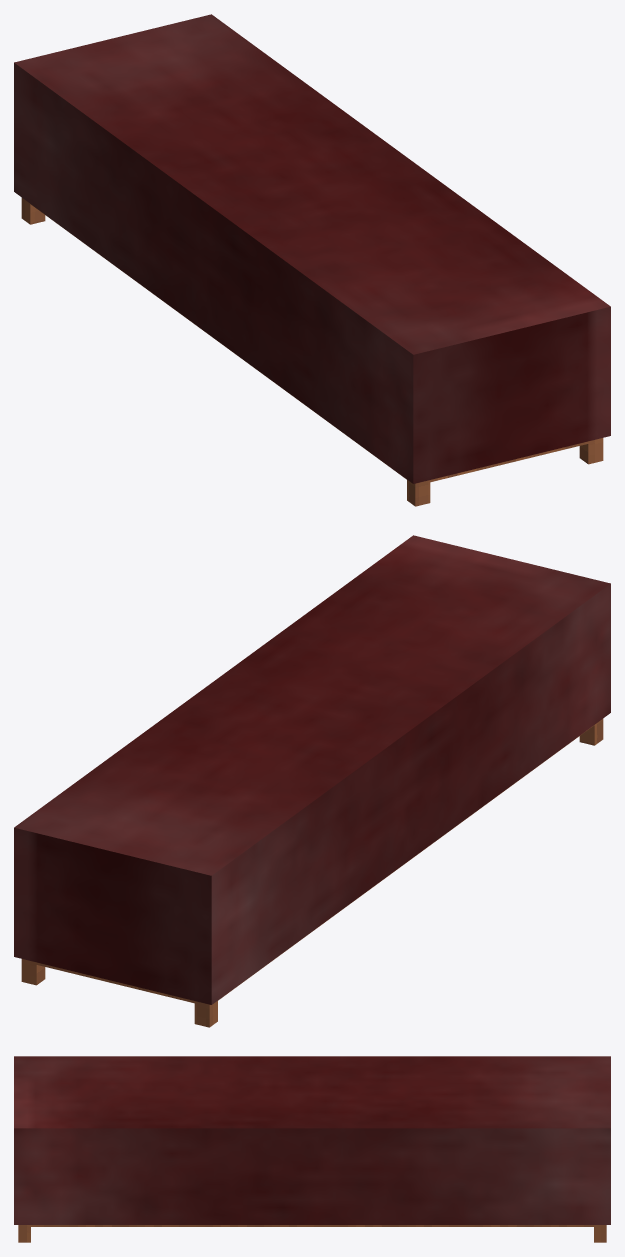
File: PoofyCouch.fbx
3 renders of one model, top to bottom at view 1: azimuth 30°, elevation 25°; view 2: azimuth 150°, elevation 25°; view 3: azimuth 270°, elevation 25°, orthographic. The views are drawn at different scales.
Parts seen in each view (by area): view 1: PoofyCouch; view 2: PoofyCouch; view 3: PoofyCouch.
Part boxes in pixels (x1,y1,x2,y2): PoofyCouch: [14, 14, 610, 506]; PoofyCouch: [14, 535, 610, 1027]; PoofyCouch: [14, 1056, 610, 1242].
Size of the model in its own units: 100 by 75 by 350.
